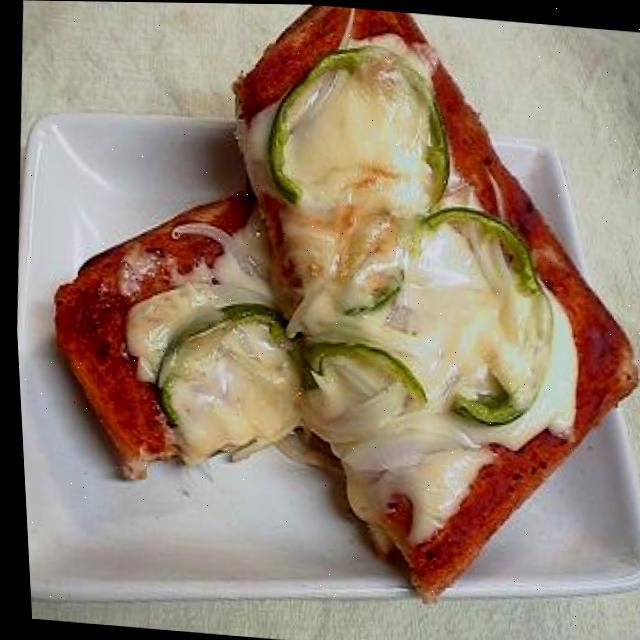面包点心: (3, 0, 640, 612)
